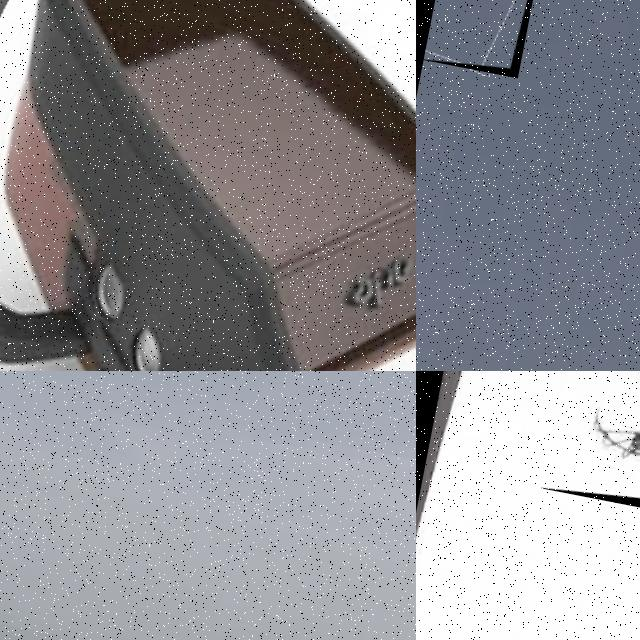0: (541, 371, 640, 544), (423, 0, 552, 78)
drone: (0, 0, 416, 371)
